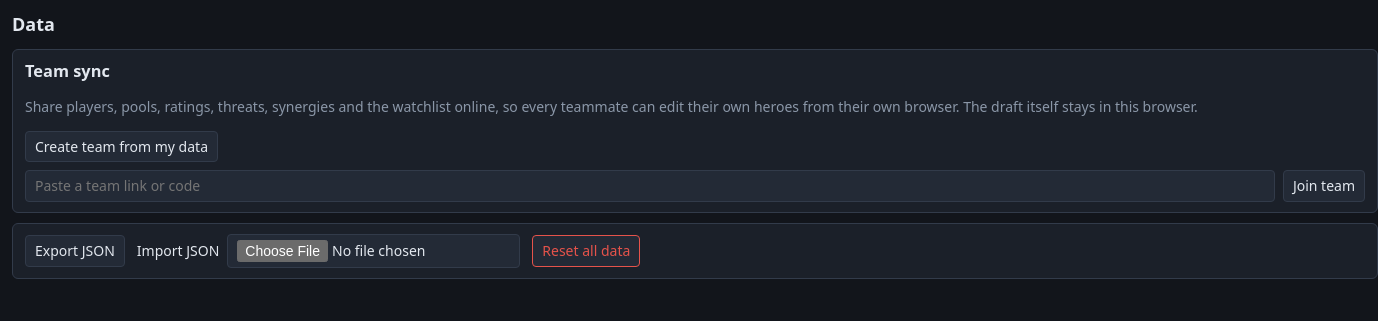
Test: Team sync card › creating a team uploads local data, shows the link and puts it in the address bar
The width and height of the screenshot is (1378, 321).
Click the button "Create team from my data": (122, 146) [25,131,218,162]
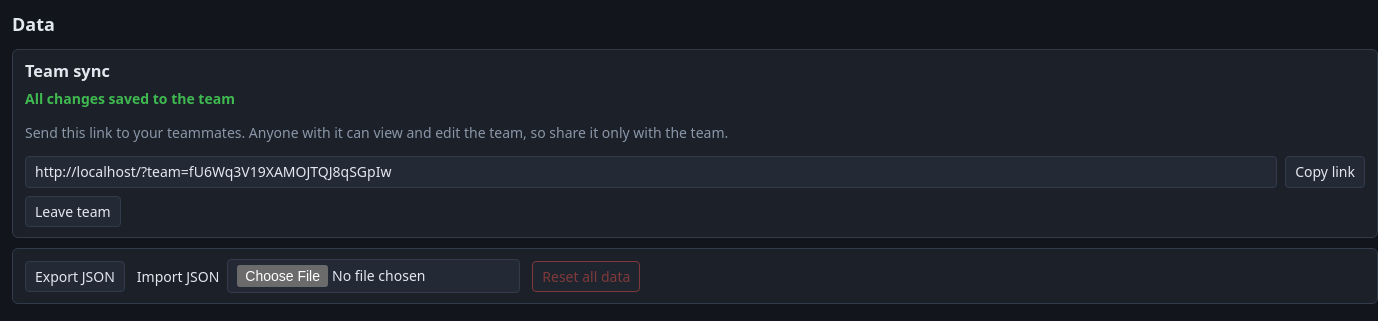
Result: the text "All changes saved to the team" is shown at [25,89,235,108]
Result: the button "Reset all data" is disabled at [532,261,640,292]
